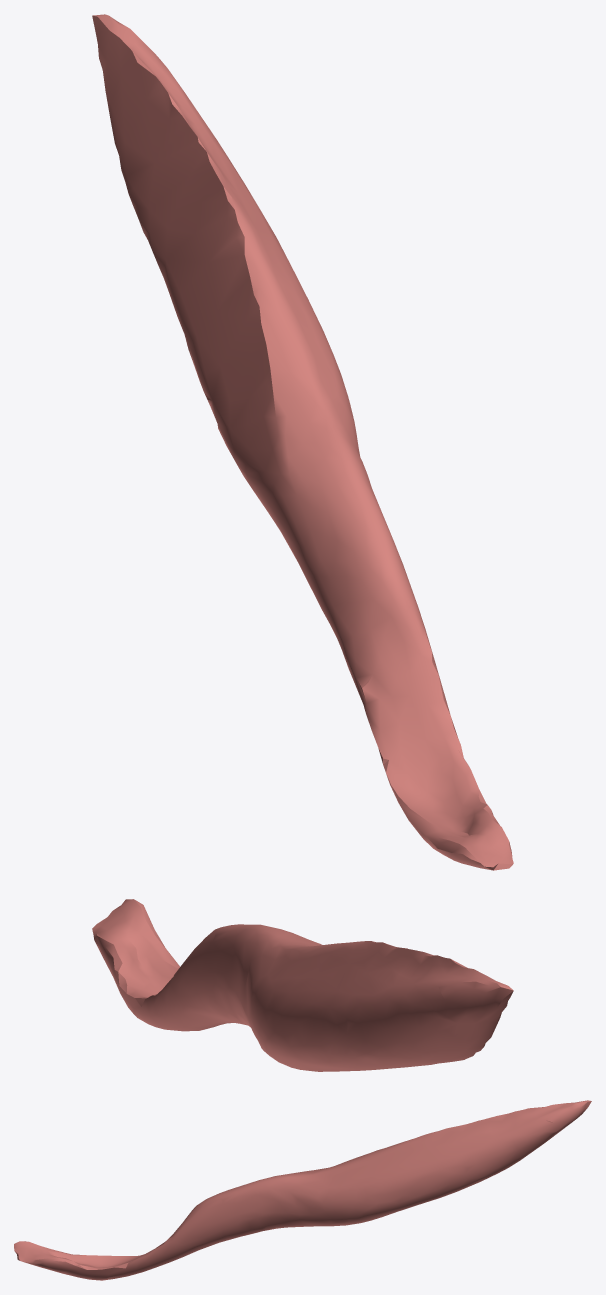
Rendered from fma45973_mm1741m.glb.
3 renders of one model, top to bottom at view 1: azimuth 30°, elevation 25°; view 2: azimuth 210°, elevation 25°; view 3: azimuth 270°, elevation 25°, orthographic. The views are drawn at different scales.
Visible parts, largest first — view 1: FMA45973_MM1741M; view 2: FMA45973_MM1741M; view 3: FMA45973_MM1741M.
Boxes of the visible parts, x1,y1,x2,y2 form: FMA45973_MM1741M: (92,14,513,870); FMA45973_MM1741M: (92,899,513,1071); FMA45973_MM1741M: (14,1100,591,1280).
Size of the model in its own units: 0.0217 by 0.0371 by 0.0918.
